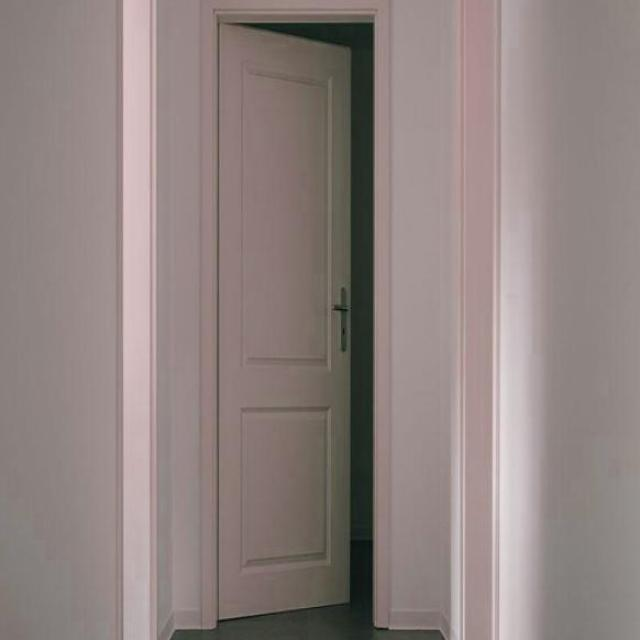door: (216, 22, 352, 620)
